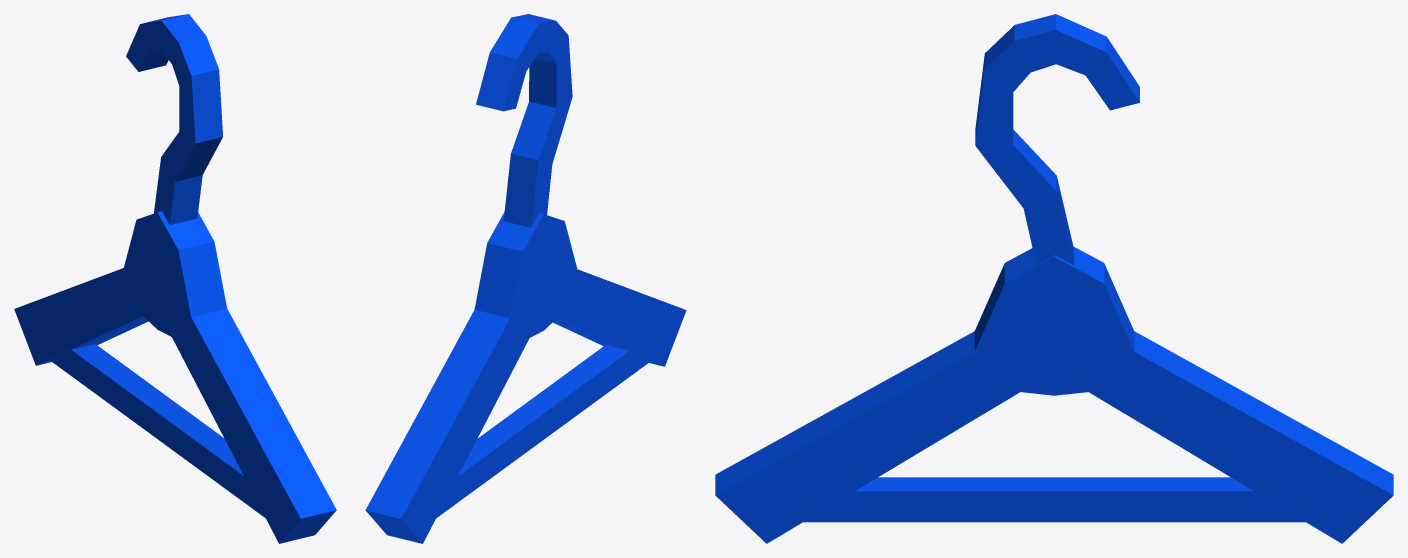
File: study_rack_hanger_1_meshCollider.fbx
3 renders of one model, left to right at view 1: azimuth 30°, elevation 25°; view 2: azimuth 150°, elevation 25°; view 3: azimuth 270°, elevation 25°, orthographic. The views are drawn at different scales.
Visible parts, largest first — view 1: study_rack_hanger_1_meshCollider; view 2: study_rack_hanger_1_meshCollider; view 3: study_rack_hanger_1_meshCollider.
Part boxes in pixels (box(x1,y1,x2,y2)): study_rack_hanger_1_meshCollider: box(14, 14, 336, 543); study_rack_hanger_1_meshCollider: box(365, 14, 686, 543); study_rack_hanger_1_meshCollider: box(715, 14, 1393, 543).
Bounding box in the file's own units: 1.87 × 21.43 × 25.74.
